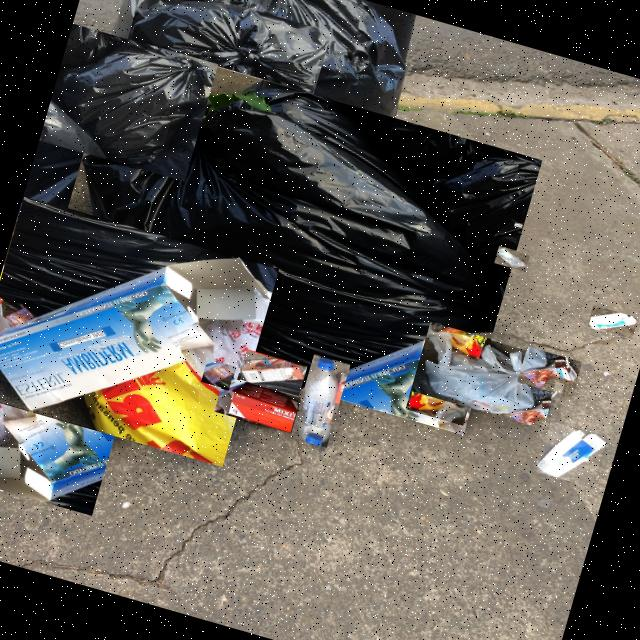Clear plastic bottle: (298, 358, 338, 445)
Crisp packet: (408, 370, 467, 411)
Drink carton: (522, 358, 578, 388), (241, 360, 303, 384), (203, 366, 233, 385)
Garbage bag: (81, 88, 493, 387), (131, 0, 407, 128), (129, 3, 314, 116), (54, 46, 215, 165)
Other carton: (0, 259, 269, 411), (217, 382, 303, 434), (538, 431, 604, 478), (587, 314, 636, 330)
Plastic bottle cap: (305, 434, 322, 446)
Plastic film: (498, 248, 526, 269)
Plastic straw: (551, 384, 564, 399), (233, 373, 241, 383)
Pop tab: (513, 224, 522, 227)
Single-use carrier bag: (0, 236, 133, 447), (426, 331, 557, 415)
